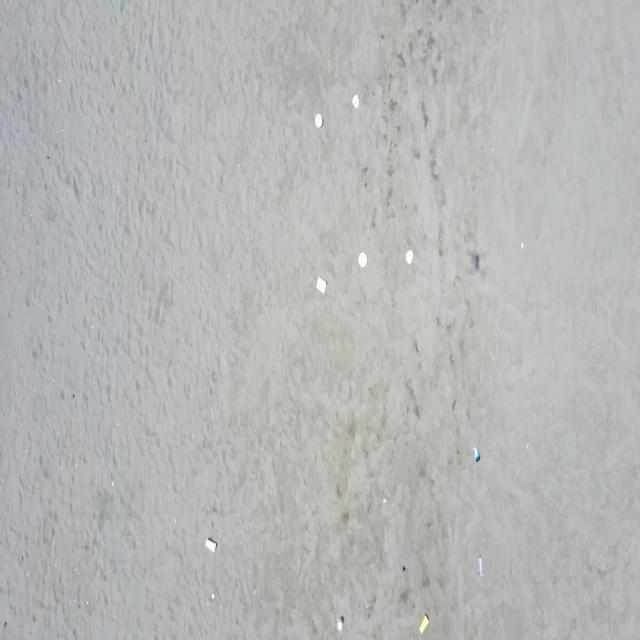take-away-containers: (316, 276, 327, 294), (358, 252, 368, 268), (315, 113, 323, 129), (352, 94, 360, 110), (406, 250, 414, 264)
takeaway-cup: (418, 614, 430, 634), (205, 538, 218, 553), (477, 555, 485, 577), (207, 590, 218, 605), (336, 618, 344, 632), (473, 446, 480, 462)
